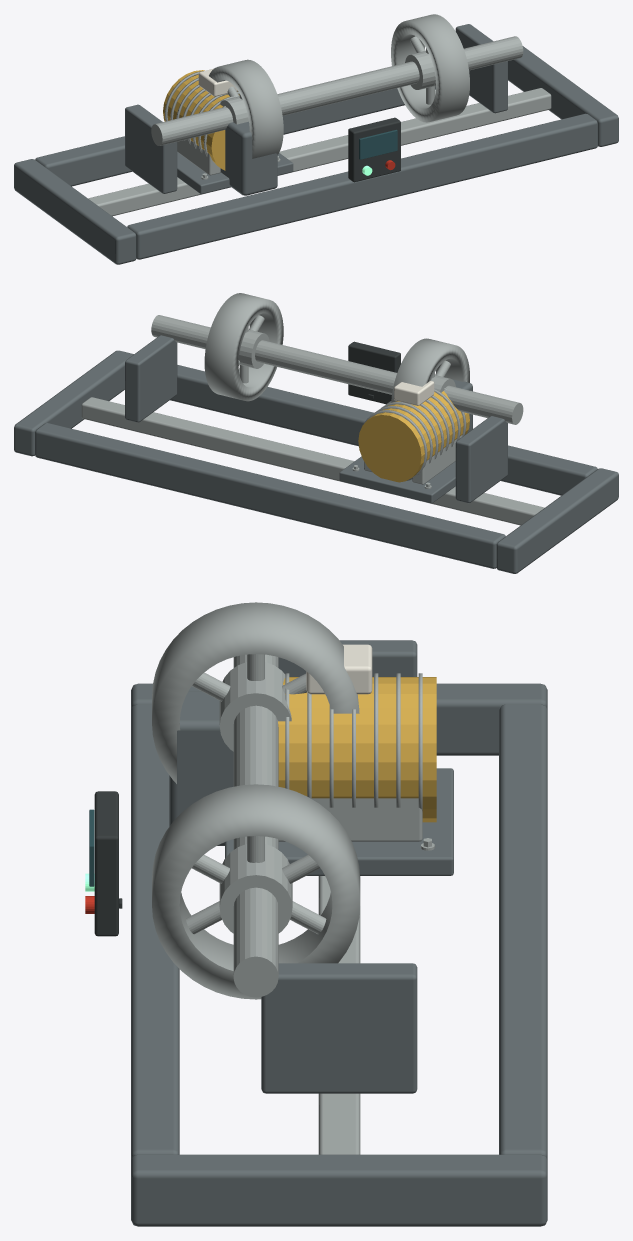
The model's file is automated-parking-and-vehicle-retrieval-automated-park-a2b8afa9__30362.glb.
The picture shows the model from 3 angles, top to bottom: view 1: azimuth 30°, elevation 25°; view 2: azimuth 150°, elevation 25°; view 3: azimuth 270°, elevation 25°; orthographic projection. The views are drawn at different scales.
Visible parts, largest first — view 1: automated-parking-and-vehicle-retrieval-lift-drive-head; view 2: automated-parking-and-vehicle-retrieval-lift-drive-head; view 3: automated-parking-and-vehicle-retrieval-lift-drive-head.
Part boxes in pixels (x1=…): automated-parking-and-vehicle-retrieval-lift-drive-head: x1=14, y1=14, x2=618, y2=264; automated-parking-and-vehicle-retrieval-lift-drive-head: x1=14, y1=293, x2=618, y2=573; automated-parking-and-vehicle-retrieval-lift-drive-head: x1=85, y1=602, x2=547, y2=1226.
Bounding box in the file's own units: 3.35 × 0.88 × 1.33.
